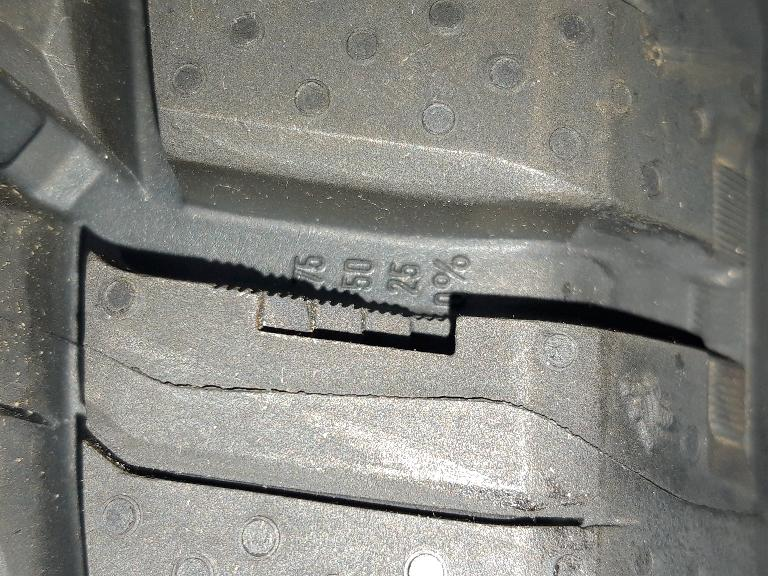temoin:100: (207, 278, 464, 364)
